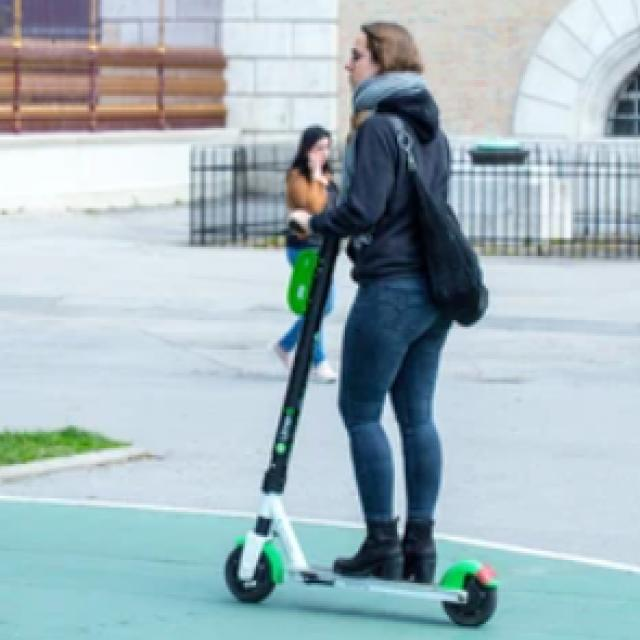non-helmet: (176, 13, 523, 640)
